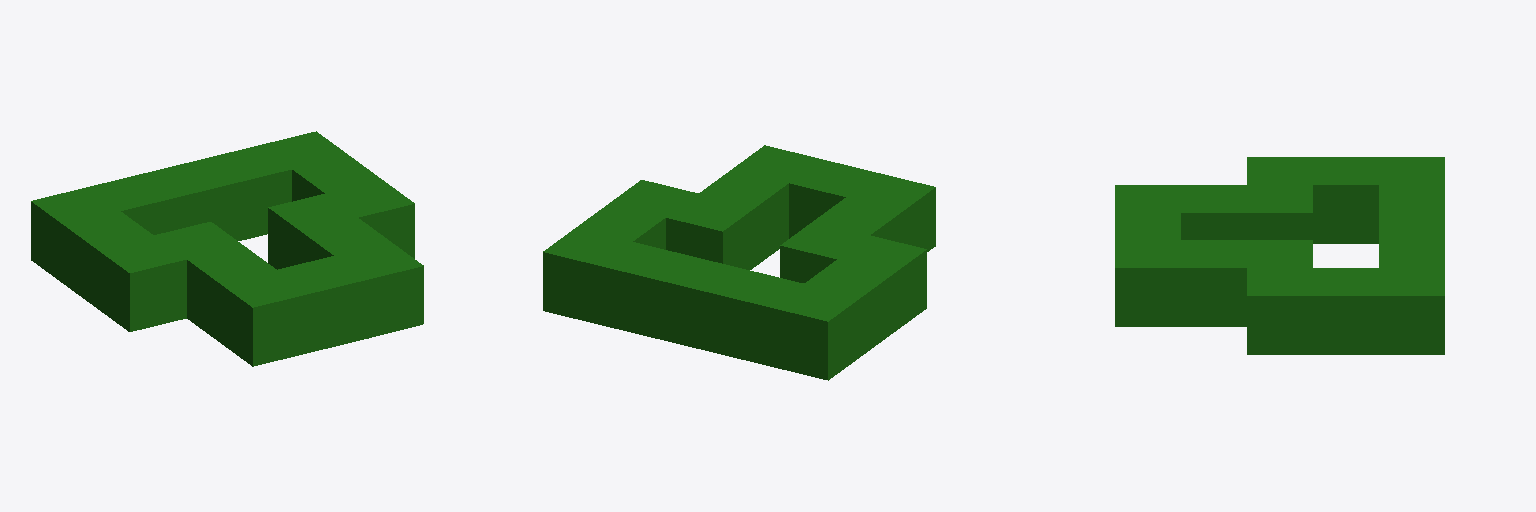
The model's file is simpleMaze.obj.
The picture shows the model from 3 angles: view 1: azimuth 30°, elevation 25°; view 2: azimuth 150°, elevation 25°; view 3: azimuth 270°, elevation 25°; orthographic projection.
Parts seen in each view (by area): view 1: Grid; view 2: Grid; view 3: Grid.
Boxes of the visible parts, <box> form: Grid: <box>31,131,423,366</box>; Grid: <box>543,145,935,380</box>; Grid: <box>1115,157,1444,354</box>.
Bounding box in the file's own units: 10 × 1.97 × 10.